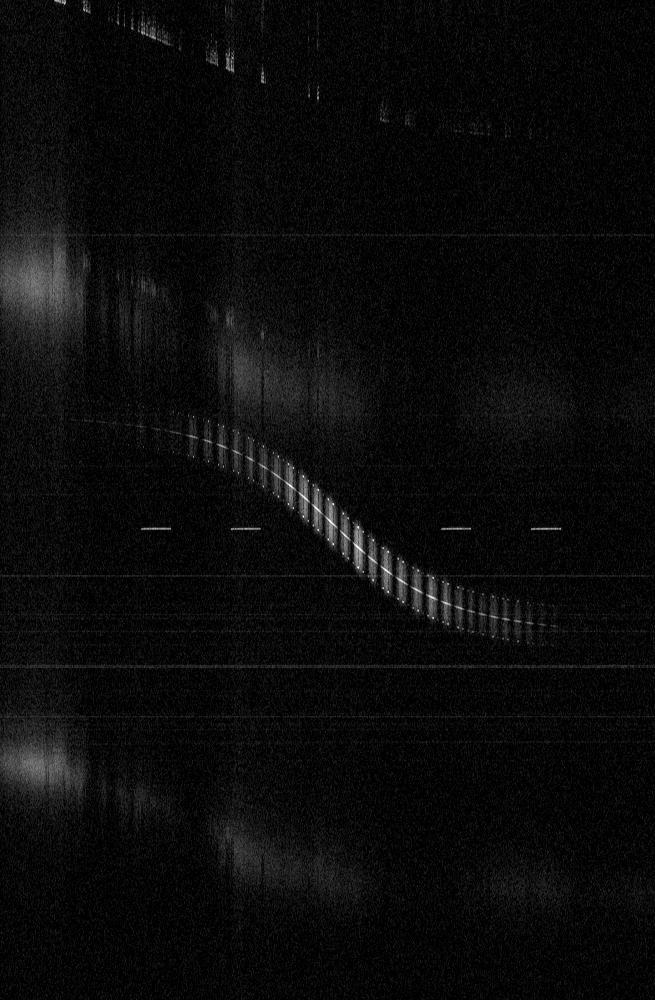signal: (0, 0, 654, 999)
